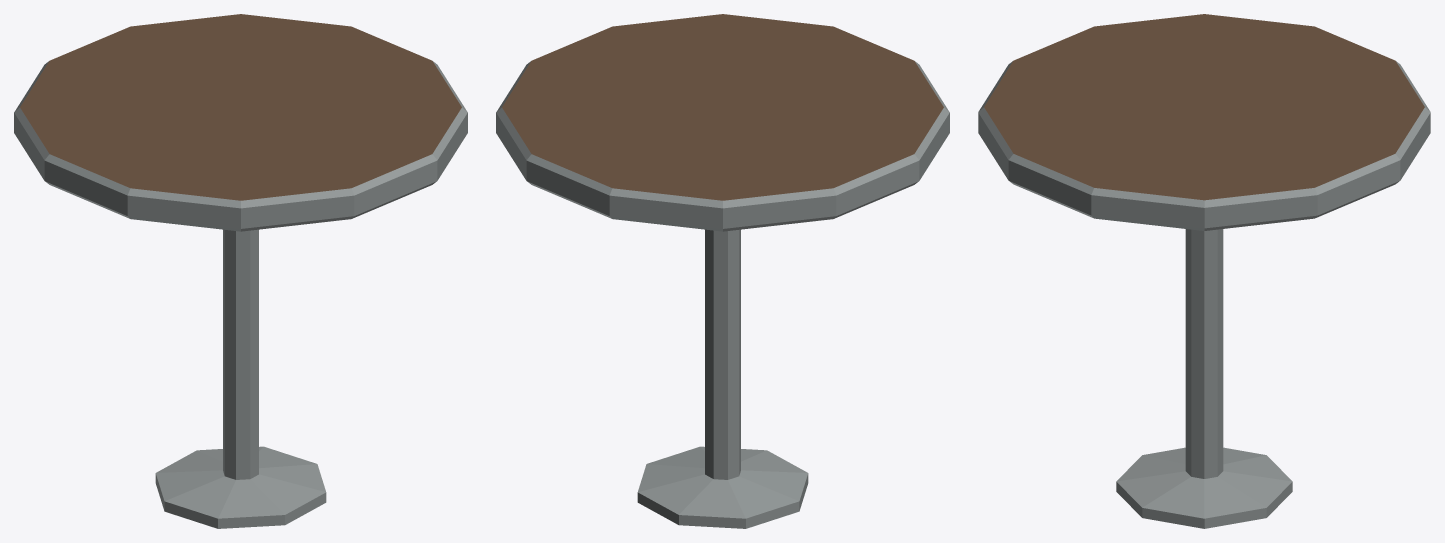
File: SM_Props_Interior_Shop_Restaurant_Table_03.fbx
3 views of the same model, side by side, from view 1: azimuth 30°, elevation 25°; view 2: azimuth 150°, elevation 25°; view 3: azimuth 270°, elevation 25° (orthographic).
Parts seen in each view (by area): view 1: SM_Props_Interior_Shop_Restaurant_Table_03; view 2: SM_Props_Interior_Shop_Restaurant_Table_03; view 3: SM_Props_Interior_Shop_Restaurant_Table_03.
Boxes of the visible parts, left/top/right/bottom form: SM_Props_Interior_Shop_Restaurant_Table_03: left=14, top=14, right=467, bottom=528; SM_Props_Interior_Shop_Restaurant_Table_03: left=496, top=14, right=949, bottom=528; SM_Props_Interior_Shop_Restaurant_Table_03: left=978, top=14, right=1430, bottom=528.
Bounding box in the file's own units: 80 × 75 × 80.
